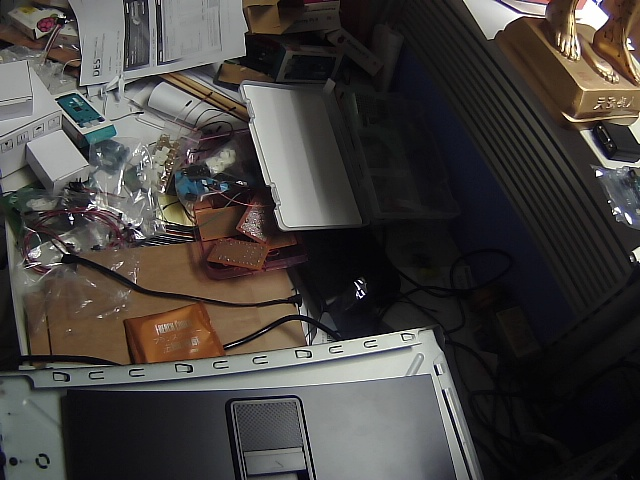frenchcookie: (124, 299, 231, 373)
